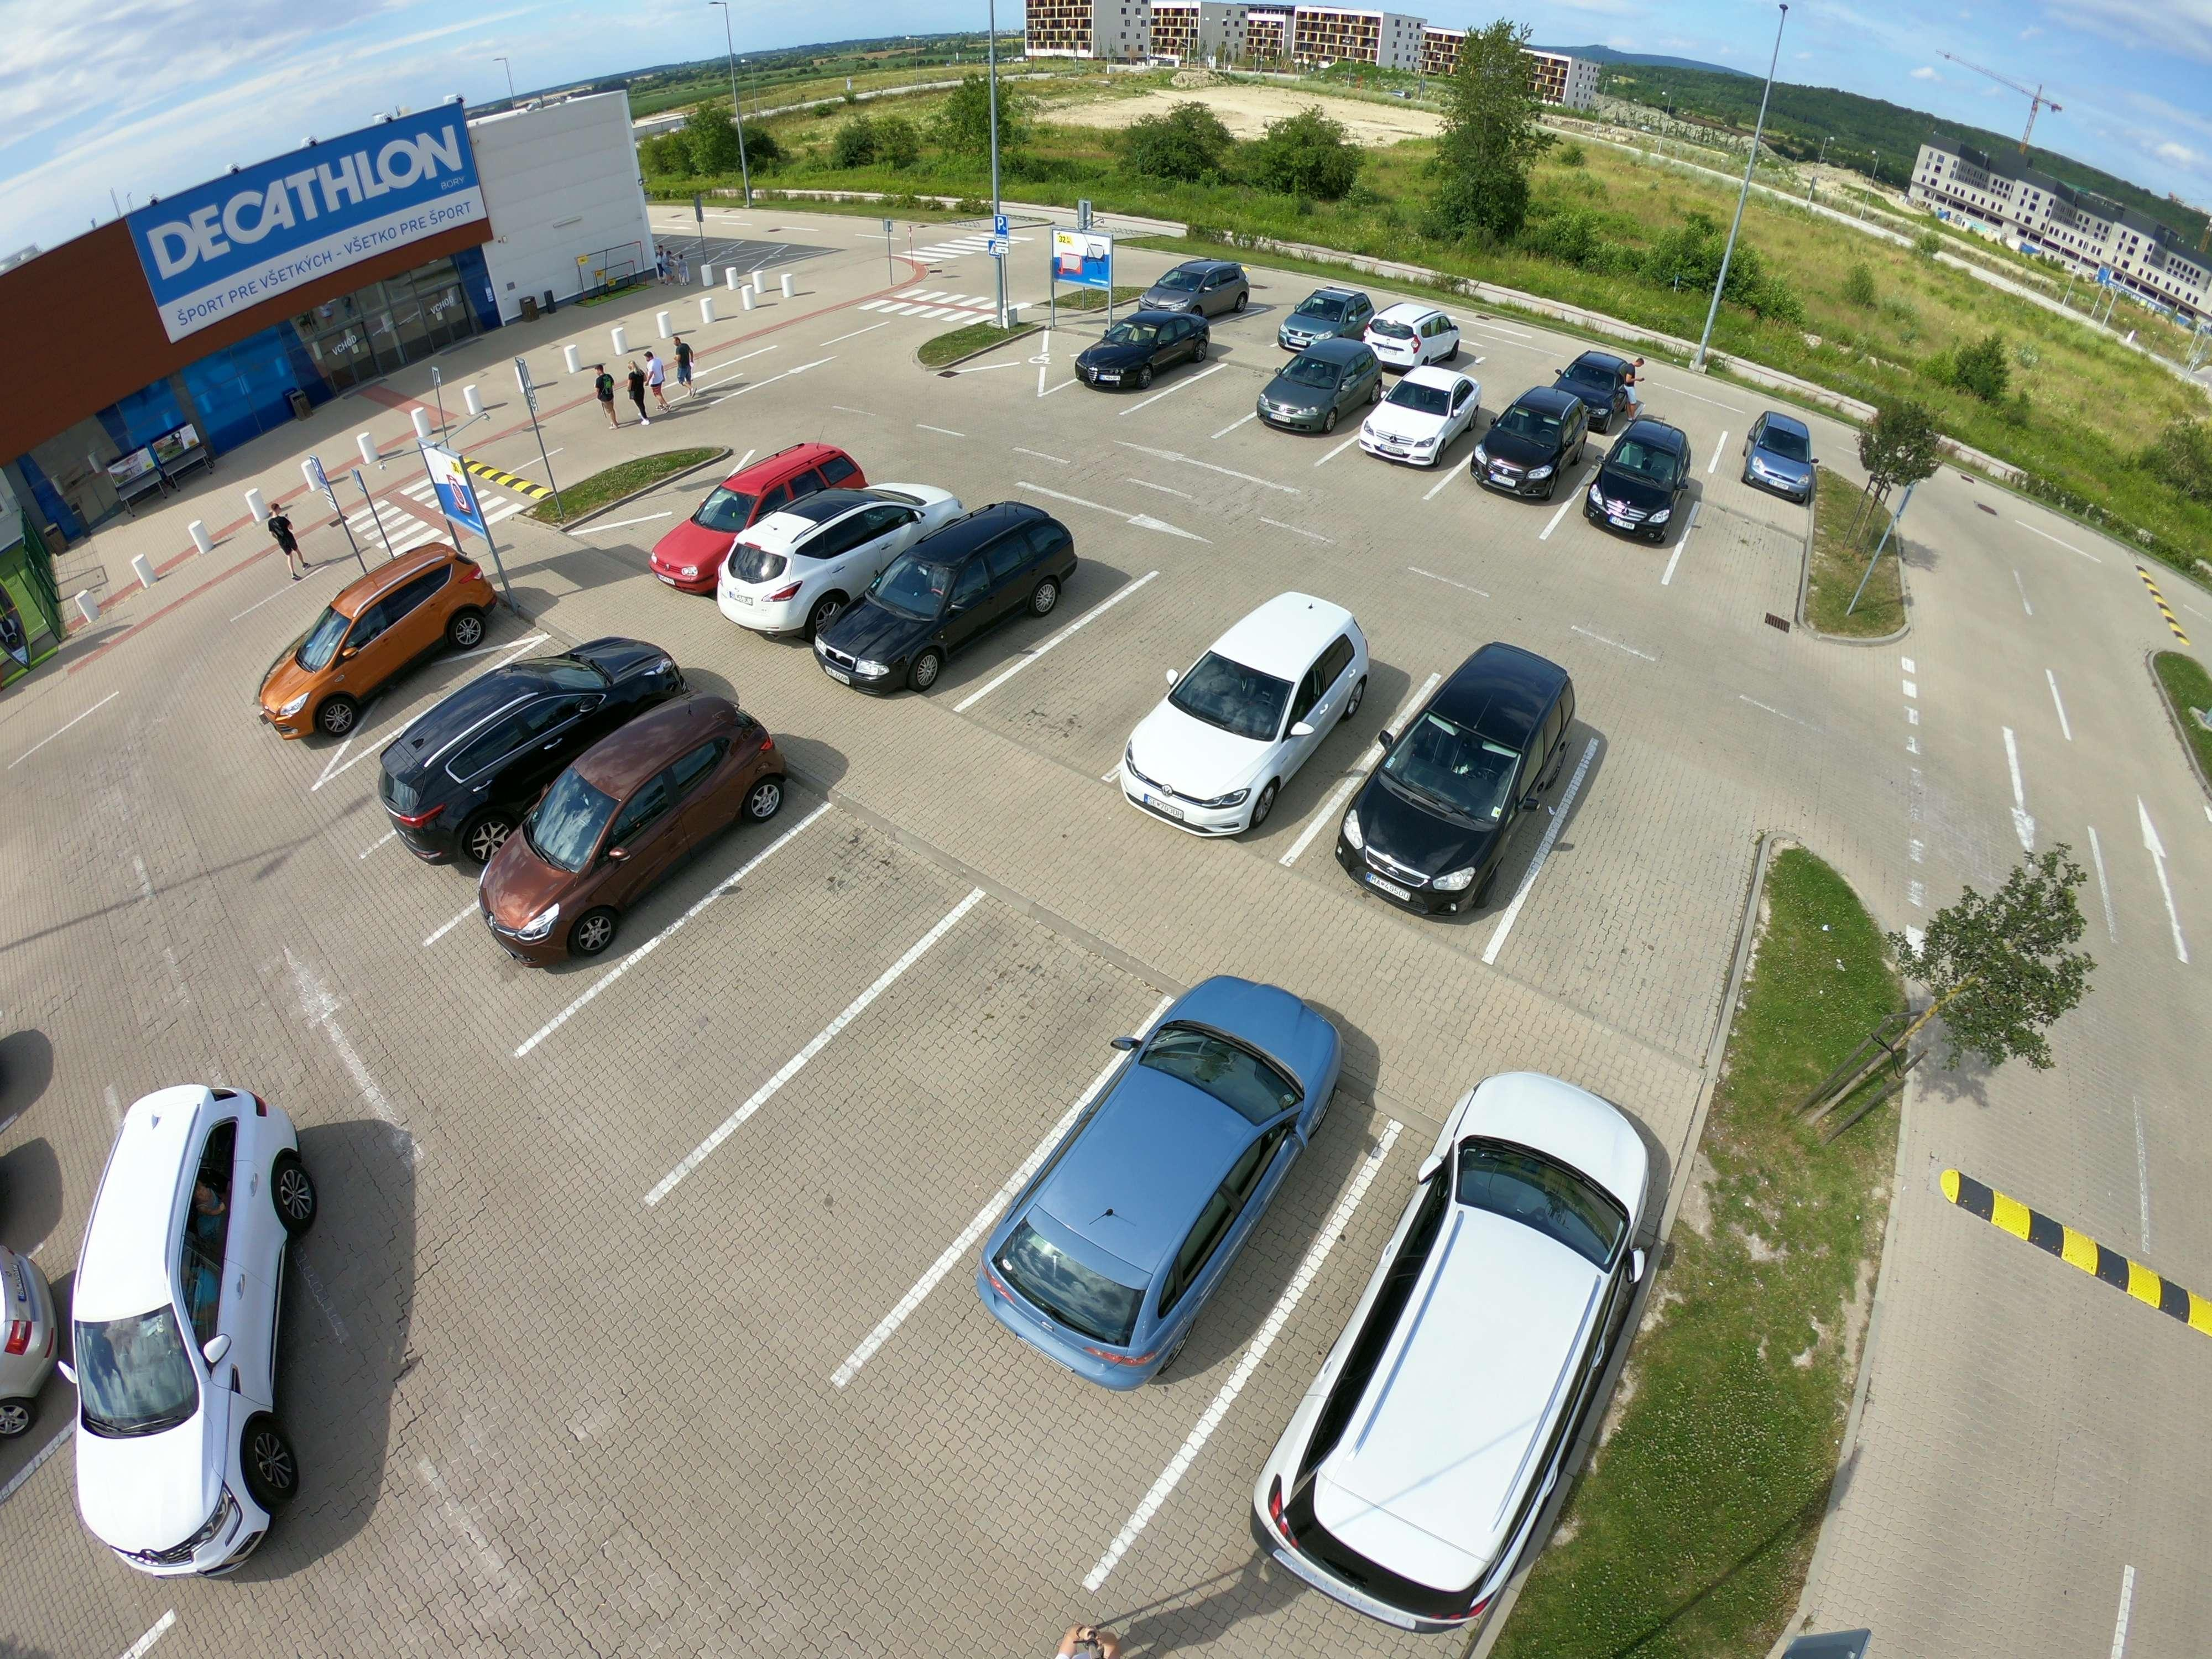empty: (1289, 1066, 1646, 1621), (30, 1061, 348, 1608), (961, 978, 1339, 1373), (479, 697, 782, 950), (1327, 645, 1571, 913), (1108, 594, 1379, 835), (378, 645, 665, 849), (840, 507, 1082, 690), (286, 545, 496, 723), (738, 484, 934, 619), (685, 437, 845, 538), (1578, 416, 1698, 547), (1470, 389, 1585, 507), (1360, 368, 1484, 474), (1254, 349, 1372, 439), (1082, 310, 1212, 390), (1728, 403, 1820, 497), (1550, 350, 1646, 416), (1371, 303, 1472, 366), (1146, 256, 1251, 314), (1284, 288, 1381, 340)
occupied: (820, 1025, 1043, 1180), (1552, 840, 1716, 965), (690, 913, 850, 1018), (1700, 530, 1803, 606), (1059, 636, 1169, 706), (1642, 392, 1723, 439), (1200, 375, 1261, 420), (1479, 352, 1545, 387)
